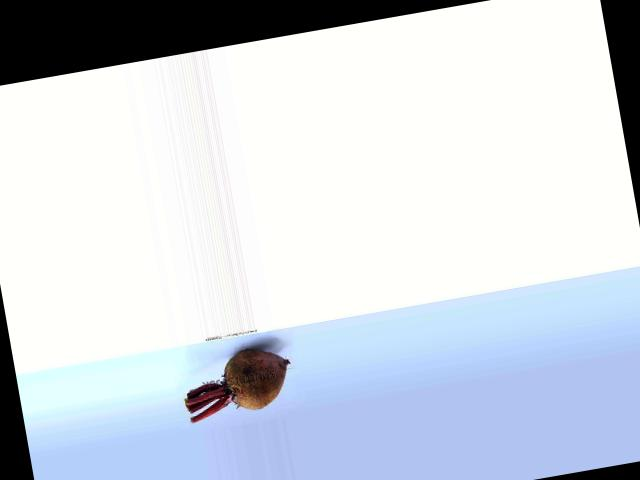beet: (179, 343, 295, 421)
